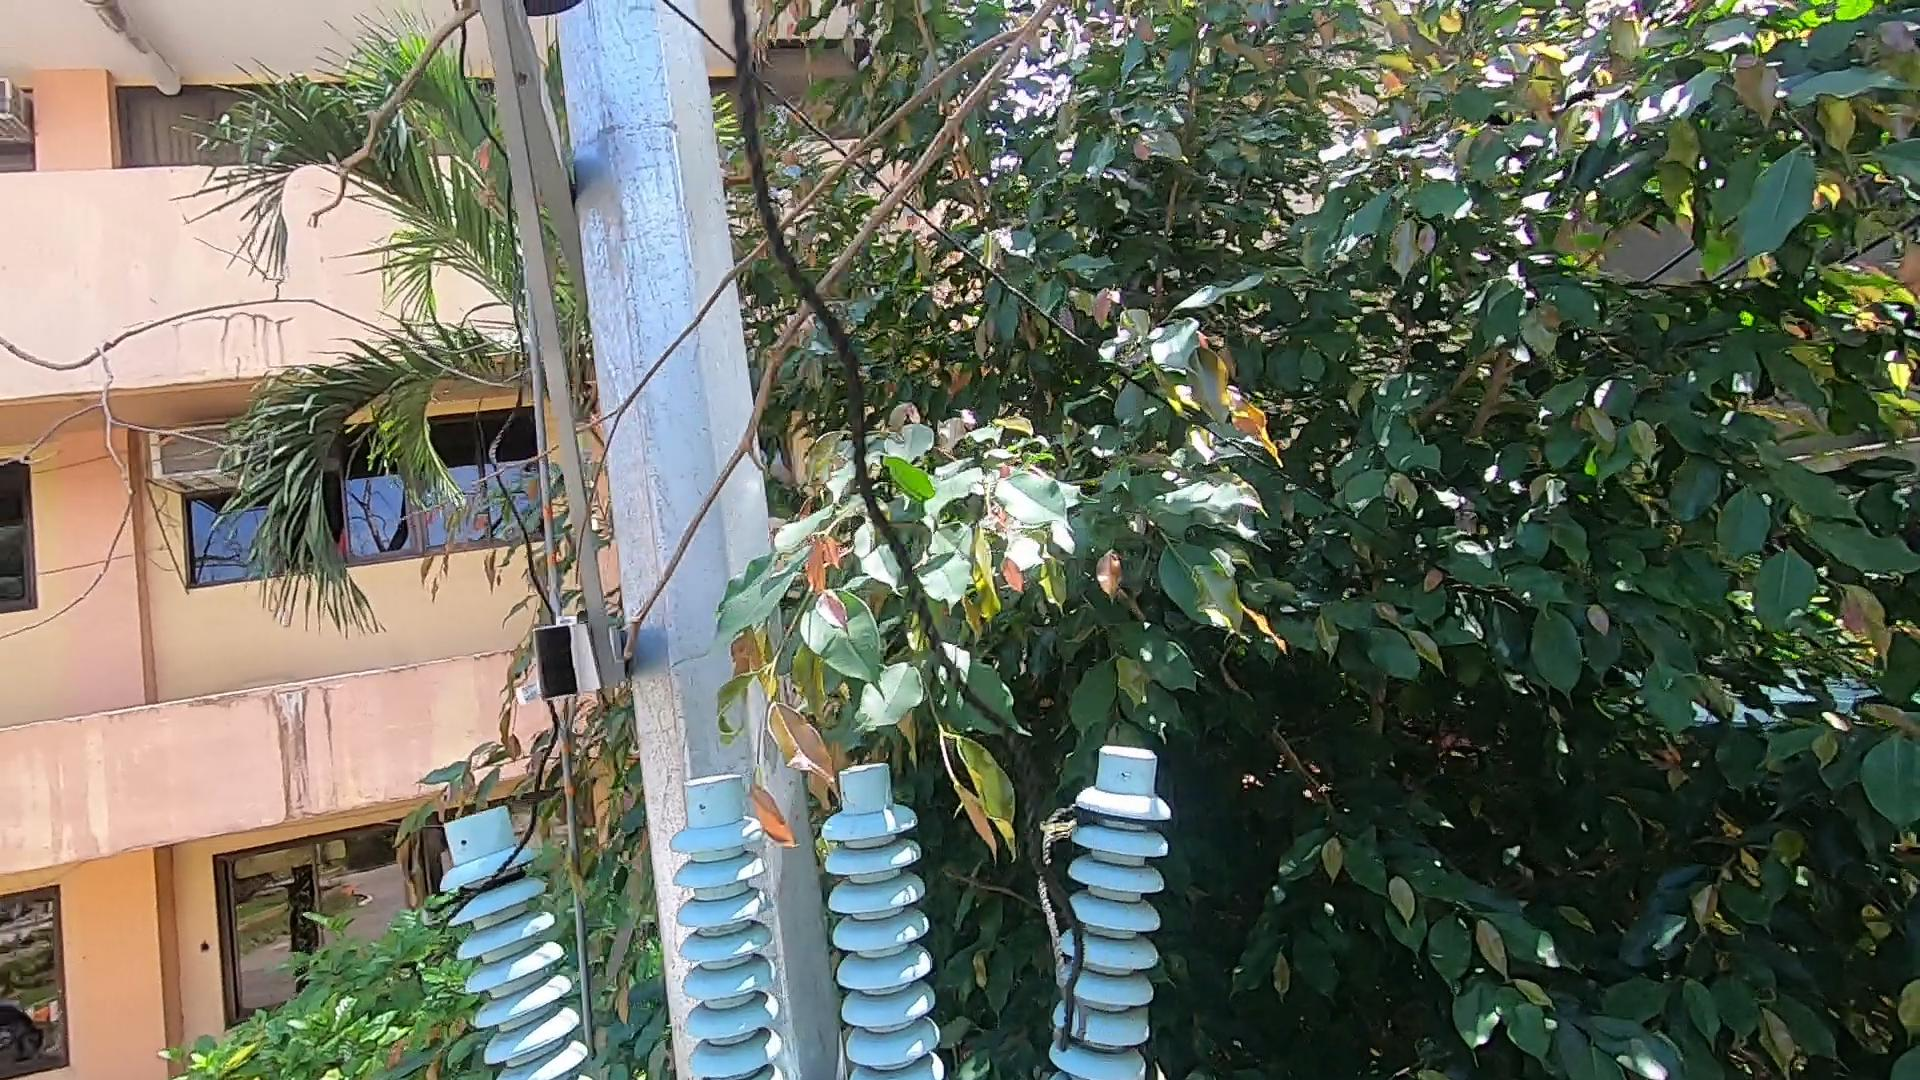branch with leaves: (704, 690, 824, 836)
tree branch: (363, 359, 868, 663)
